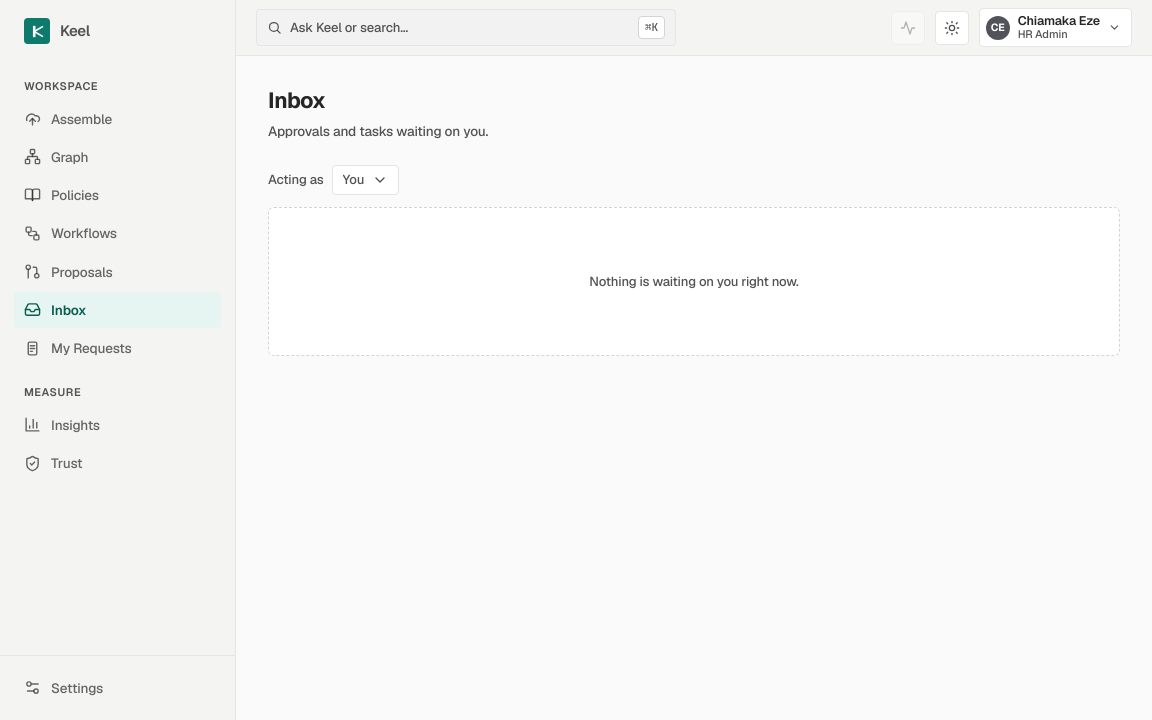
Test: /inbox › as an hr_admin › can switch to a specific assignee to see just their queue
The width and height of the screenshot is (1152, 720).
Click the dropdown named "Acting as" at (365, 180), box 332,165 -> 399,195
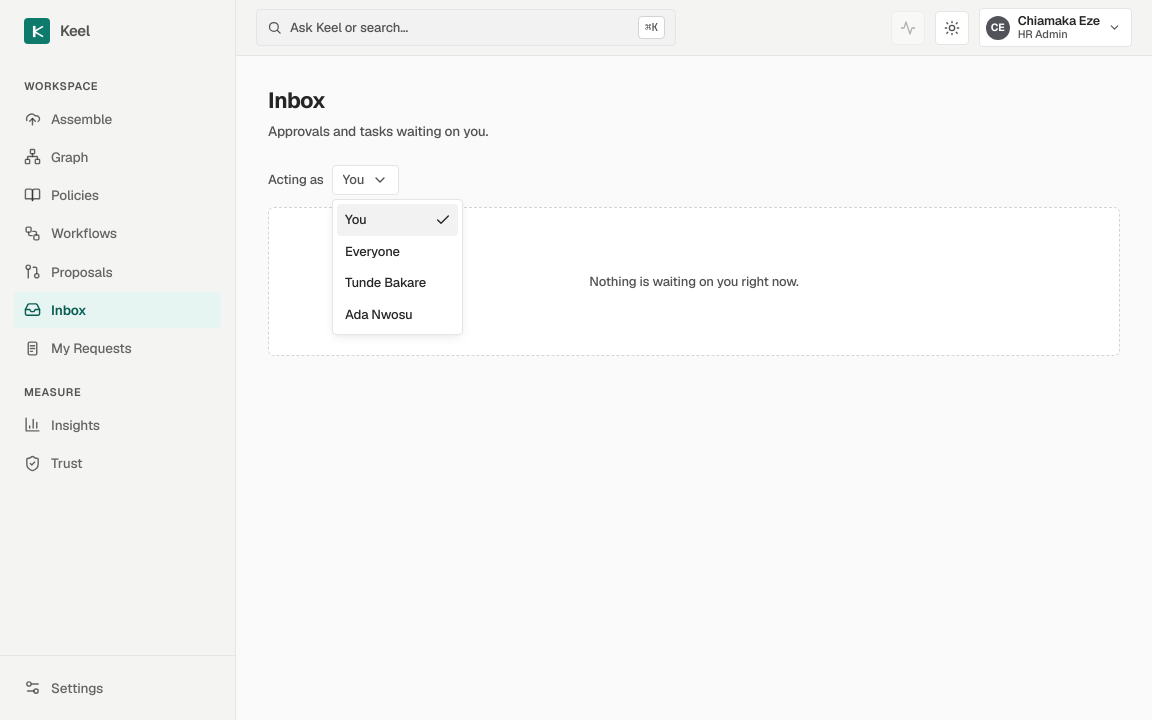
Click the option "Tunde Bakare" at (386, 282), box 345,274 -> 426,291
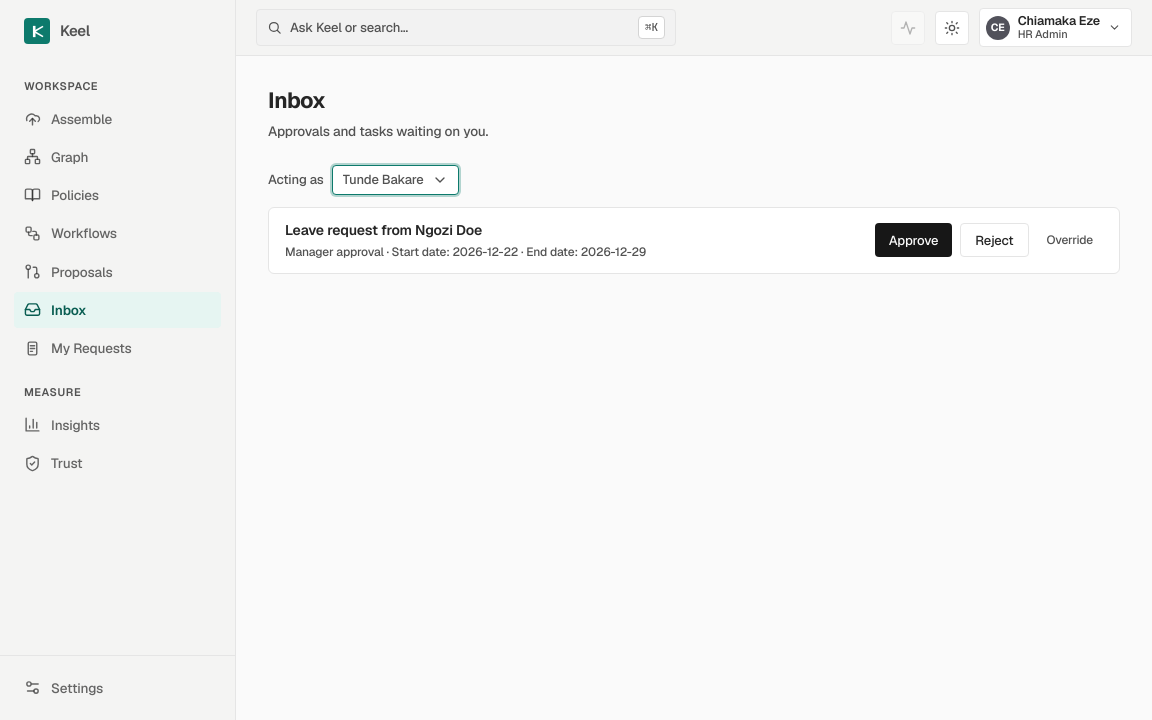
Check: the text "Leave request from Ngozi Doe" is shown, box 285,221 -> 482,239
